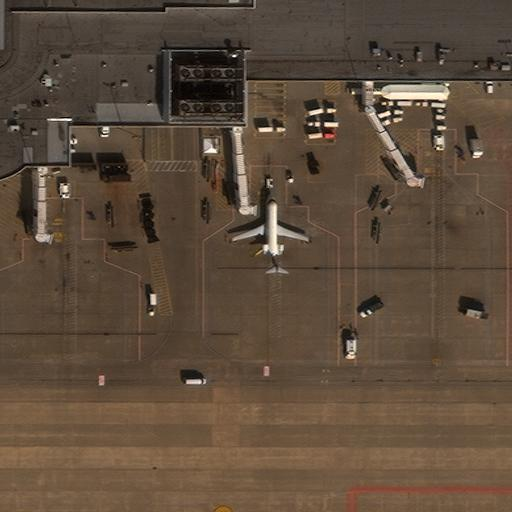Medium Civil Transport: (232, 195, 308, 272)
